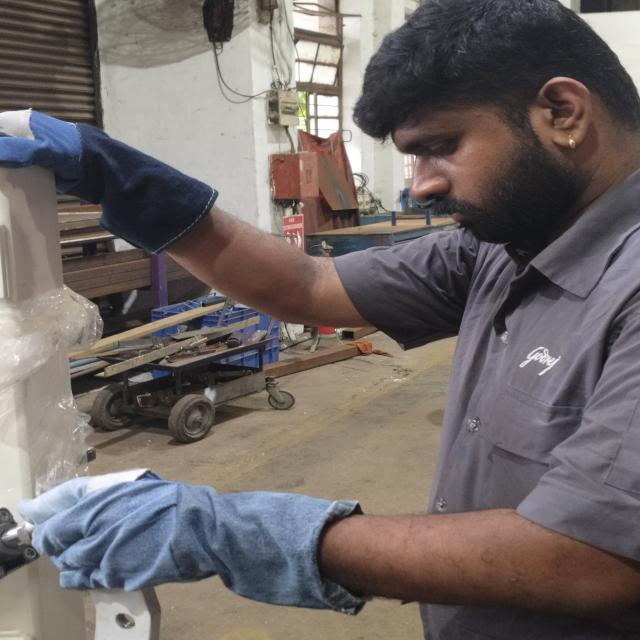Gloves-Detection: (0, 458, 389, 616), (0, 99, 214, 264)
